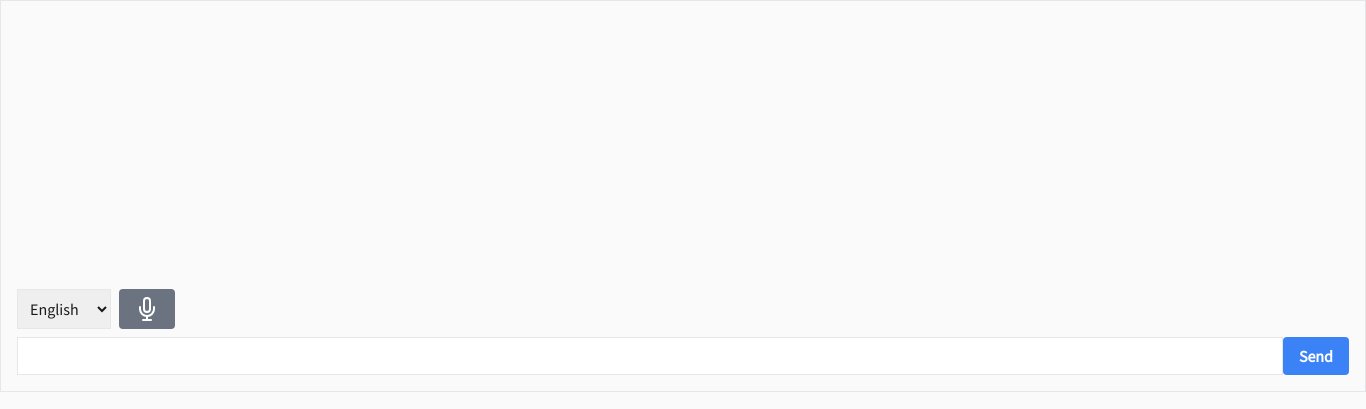
Scenario: sends a message
The width and height of the screenshot is (1366, 409).
Step 1. Type "Hello" into the field → (650, 356), box [17,337,1283,375]
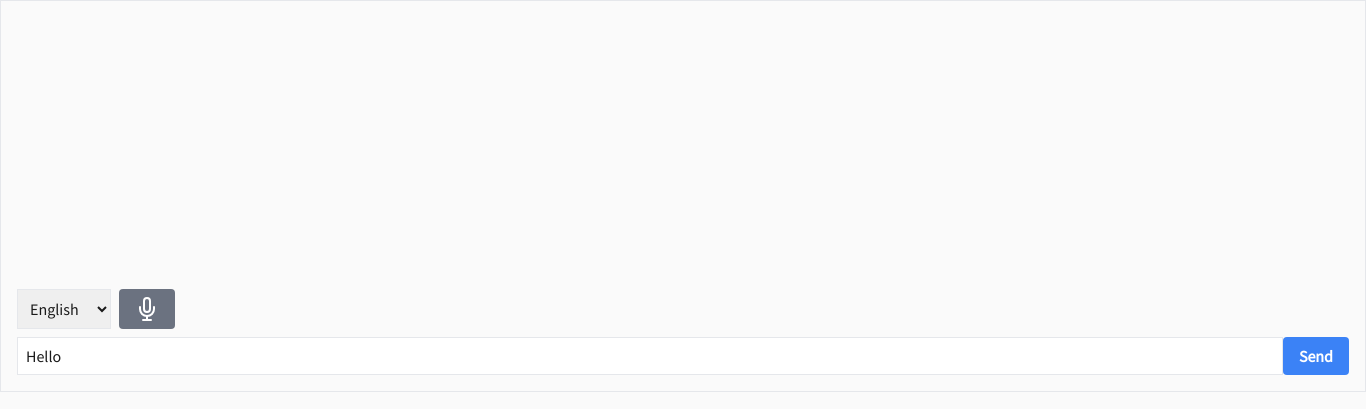
Step 2. Click the button "Send" → (1316, 356), box [1283,337,1349,375]
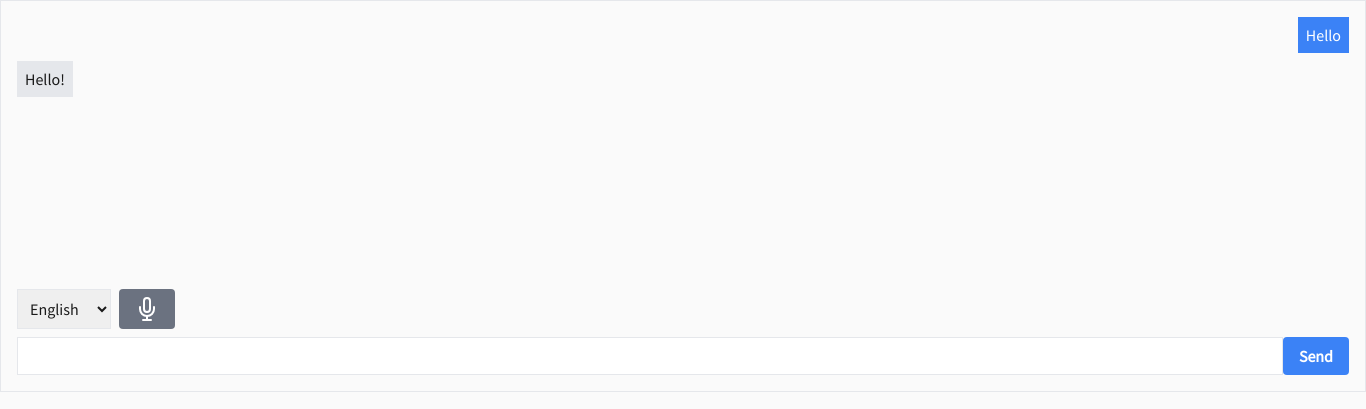
Expected: the text "Hello" is shown, [1298,17,1349,53]
